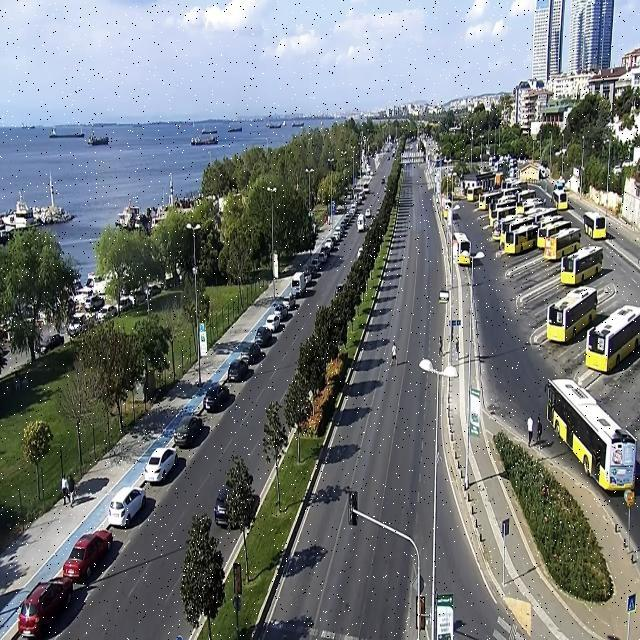Bus: (546, 374, 638, 494), (545, 286, 597, 342), (559, 244, 603, 284), (583, 211, 608, 239), (453, 231, 471, 266)
Car: (18, 578, 72, 636), (62, 529, 111, 582), (107, 485, 145, 526), (143, 444, 177, 484), (172, 416, 202, 446), (203, 384, 230, 411), (213, 487, 230, 527), (226, 358, 250, 382), (37, 333, 64, 353), (239, 342, 263, 364), (254, 327, 274, 348), (271, 301, 289, 320), (265, 313, 282, 333), (98, 305, 116, 318), (284, 293, 298, 309), (314, 250, 328, 266), (119, 295, 135, 309), (146, 282, 162, 296), (310, 255, 323, 270), (302, 269, 314, 284), (356, 214, 366, 232), (318, 244, 330, 259), (322, 239, 334, 252), (331, 230, 341, 244), (348, 202, 357, 214), (365, 208, 371, 218)
Van: (290, 271, 308, 298)
